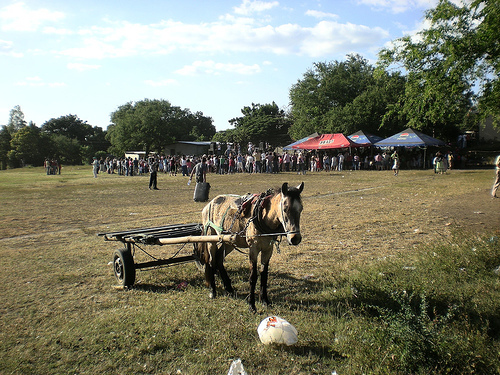horse: (198, 182, 305, 313)
